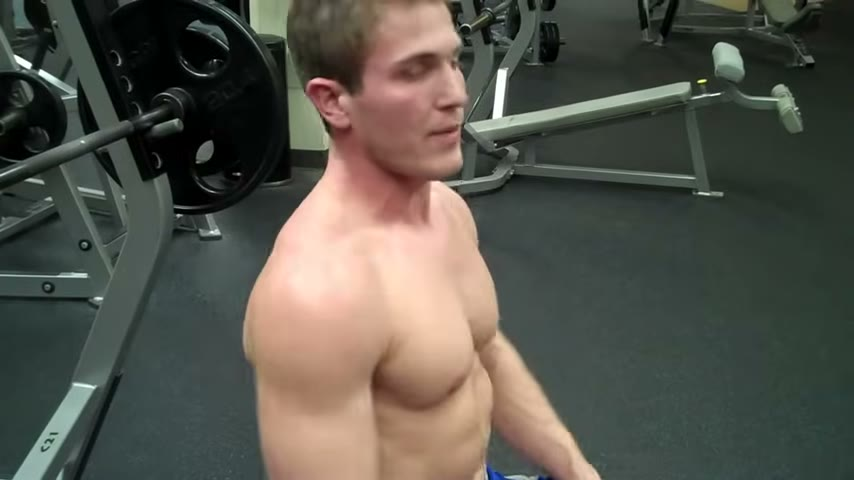barbell_plate_side: (634, 0, 821, 466), (170, 0, 330, 432), (0, 2, 112, 475), (670, 1, 813, 348), (204, 0, 333, 361)
